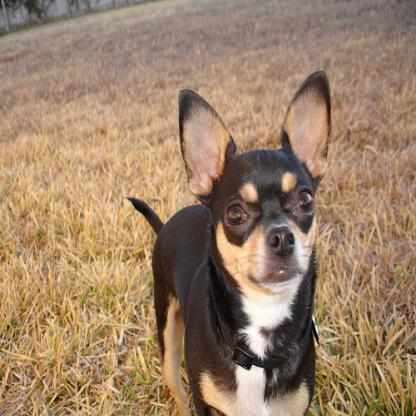dog: (128, 66, 331, 415)
